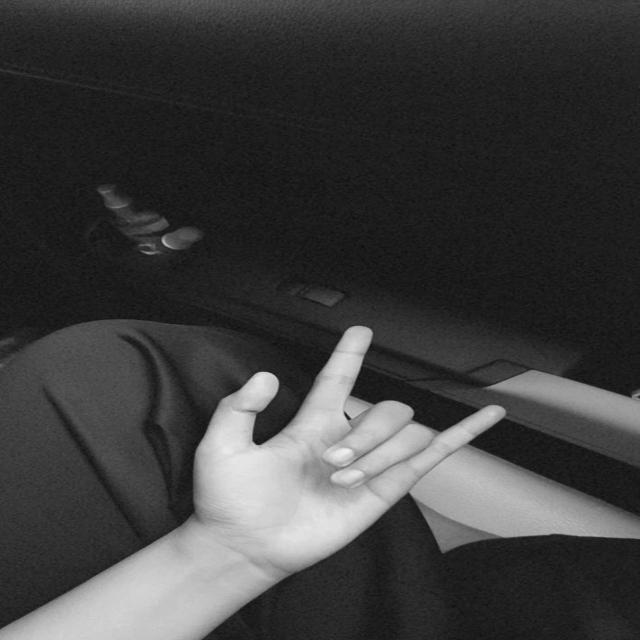i love you: (174, 317, 515, 584)
